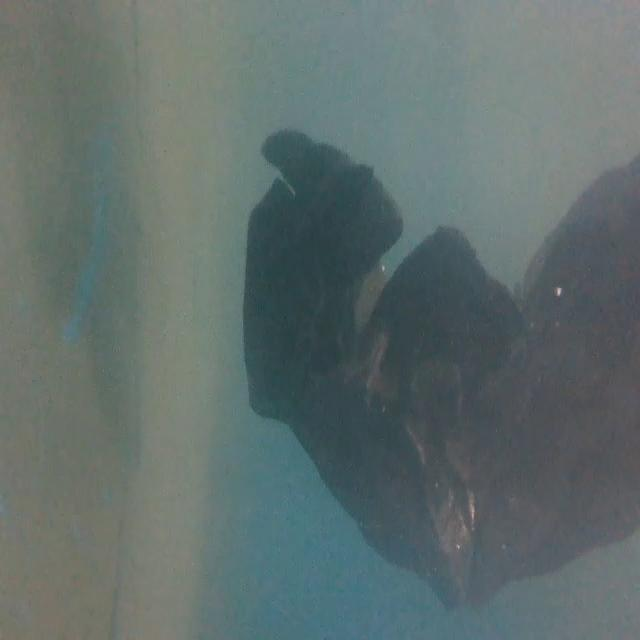plastic bags: (237, 120, 640, 603)
